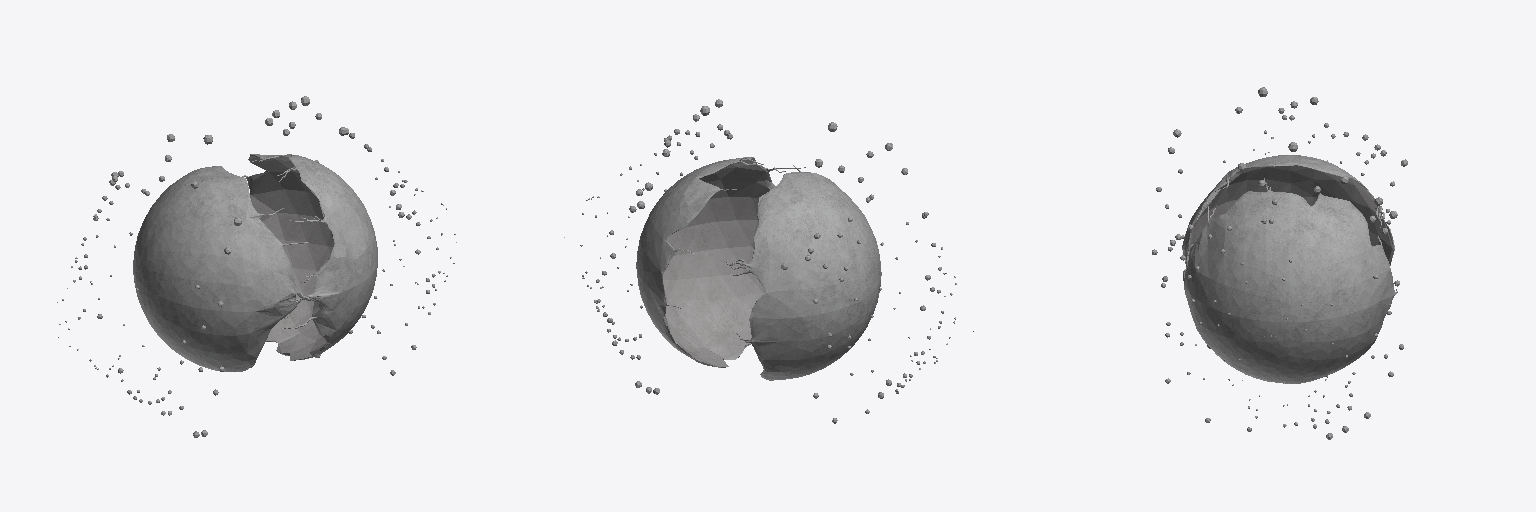
3 views of the same model, side by side, from view 1: azimuth 30°, elevation 25°; view 2: azimuth 150°, elevation 25°; view 3: azimuth 270°, elevation 25° (orthographic).
Parts seen in each view (by area): view 1: Object039; view 2: Object039; view 3: Object039.
Boxes of the visible parts, x1=… form: Object039: x1=57, y1=96, x2=456, y2=437; Object039: x1=564, y1=99, x2=973, y2=423; Object039: x1=1152, y1=87, x2=1407, y2=439.
Size of the model in its own units: 1030 by 688 by 566.
1 materials, 1 textured.